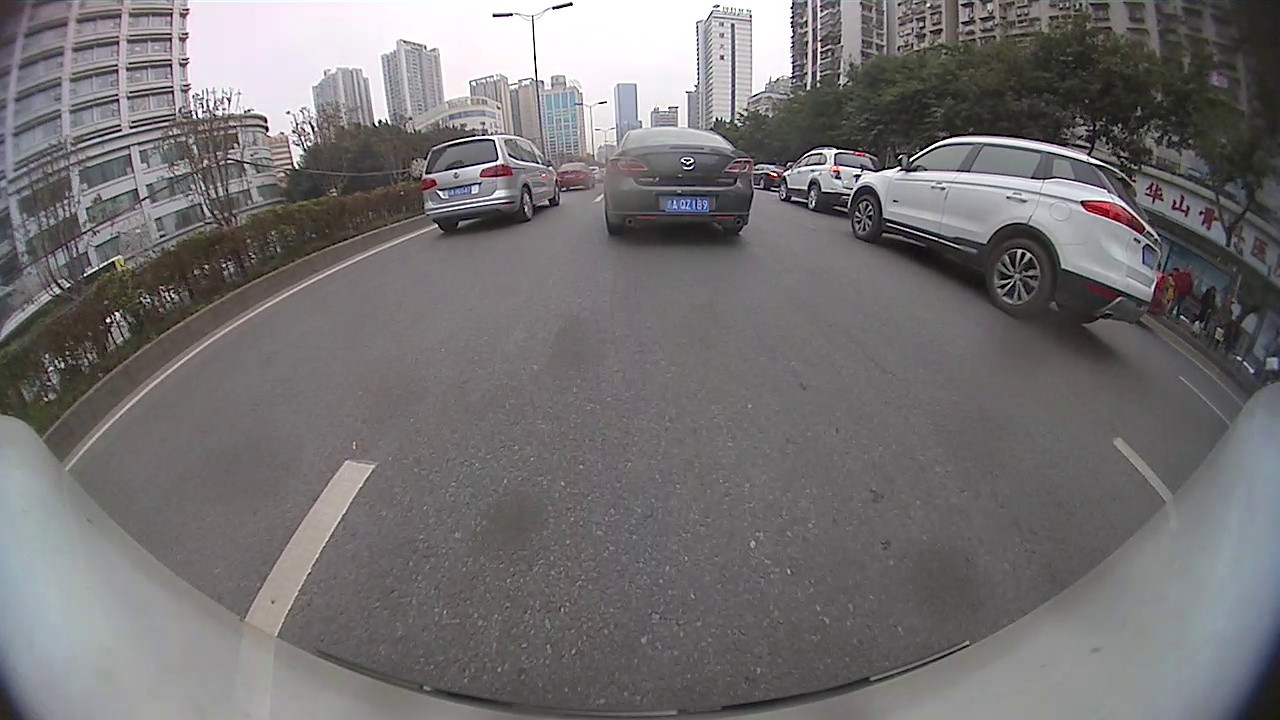car: (847, 132, 1169, 327), (601, 125, 754, 240), (420, 133, 560, 236), (778, 145, 883, 213), (555, 159, 598, 193), (750, 163, 787, 190)
front: (850, 195, 883, 240), (777, 177, 791, 202), (551, 179, 560, 207)
person: (1180, 262, 1192, 327), (1219, 294, 1231, 356), (1204, 285, 1215, 340)
rear: (986, 238, 1053, 314), (519, 187, 535, 221), (808, 185, 819, 211)
